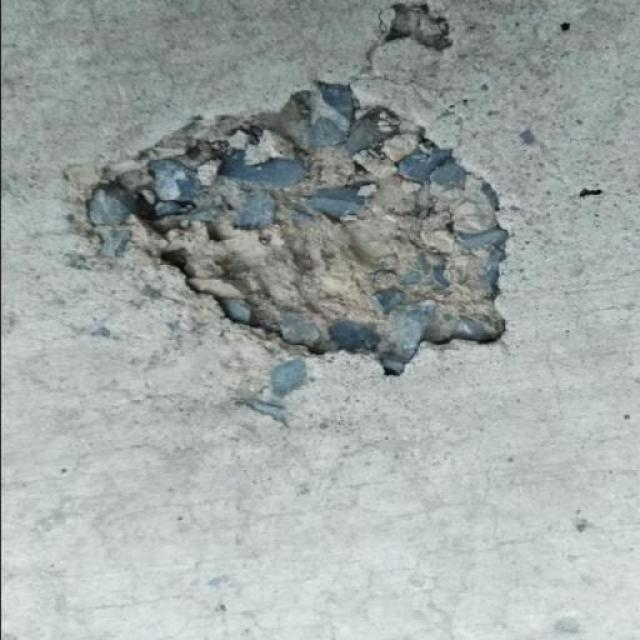D10: (74, 79, 510, 400), (375, 1, 455, 52)
